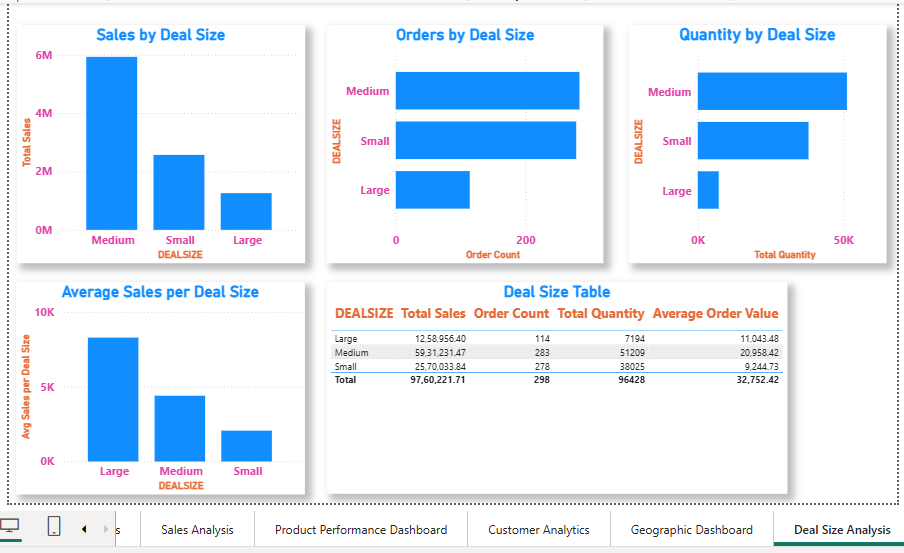

Layout of this report page (visuals, bound fields, positions):
{"tool":"powerbi","page":{"name":"Deal Size Analysis","canvas":[1280,720],"ordinal":5},"visuals":[{"type":"clusteredColumnChart","title":"Sales by Deal Size","fields":{"Category":["Auto Sales data.DEALSIZE"],"Y":["Auto Sales data.Total Sales"]},"box":[11.7,32.1,414.5,343],"z":0},{"type":"clusteredBarChart","title":"Orders by Deal Size","fields":{"Y":["Auto Sales data.Order Count"],"Category":["Auto Sales data.DEALSIZE"]},"box":[458.3,32.1,398.4,343],"z":1000},{"type":"barChart","title":"Quantity  by Deal Size","fields":{"Category":["Auto Sales data.DEALSIZE"],"Y":["Auto Sales data.Total Quantity"]},"box":[893.2,32.1,370.7,343],"z":2000},{"type":"columnChart","title":"Average Sales per Deal Size","fields":{"Category":["Auto Sales data.DEALSIZE"],"Y":["Auto Sales data.Avg Sales per Deal Size"]},"box":[10.2,401.4,416,306.5],"z":3000},{"type":"tableEx","title":"Deal Size Table","fields":{"Values":["Auto Sales data.DEALSIZE","Auto Sales data.Total Sales","Auto Sales data.Order Count","Auto Sales data.Total Quantity","Auto Sales data.Average Order Value"]},"box":[458.3,401.4,662.6,305],"z":4000}]}

Visuals, with their boxes on the page's 1280x720 design canvas (x1, y1, x2, y2). These are canvas units, not pixel positions in the 904x553 screenshot, which may show the page scaled, cropped or inside an application window:
"Sales by Deal Size" clusteredColumnChart: (left=12, top=32, right=426, bottom=375)
"Orders by Deal Size" clusteredBarChart: (left=458, top=32, right=857, bottom=375)
"Quantity  by Deal Size" barChart: (left=893, top=32, right=1264, bottom=375)
"Average Sales per Deal Size" columnChart: (left=10, top=401, right=426, bottom=708)
"Deal Size Table" tableEx: (left=458, top=401, right=1121, bottom=706)
